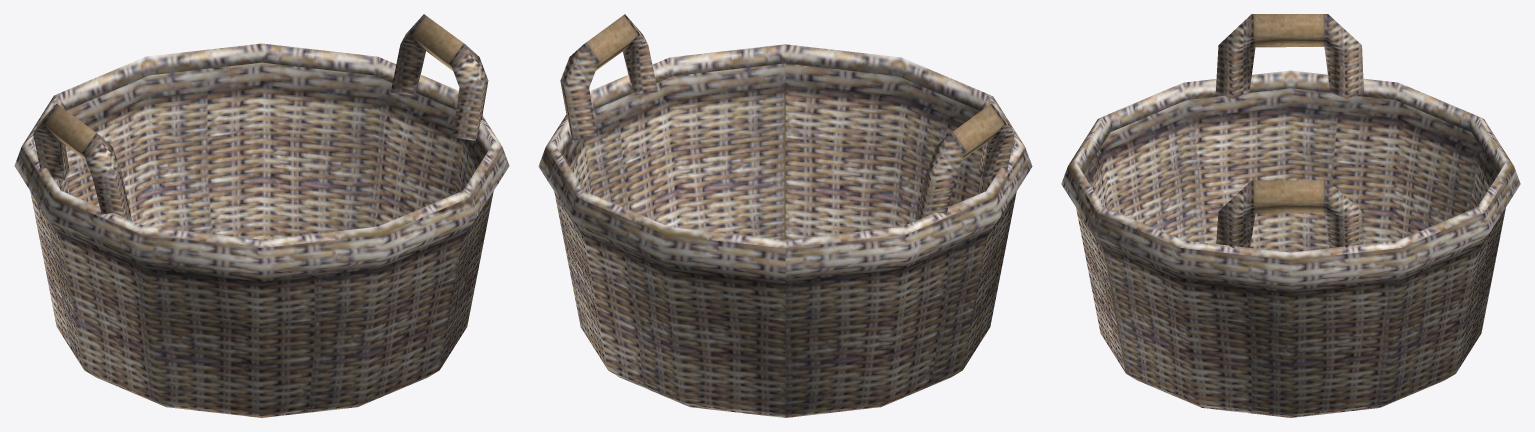
The model's file is basket01.FBX.
3 renders of one model, left to right at view 1: azimuth 30°, elevation 25°; view 2: azimuth 150°, elevation 25°; view 3: azimuth 270°, elevation 25°, orthographic. The views are drawn at different scales.
Parts seen in each view (by area): view 1: basket01; view 2: basket01; view 3: basket01.
Part boxes in pixels (box(x1,y1,x2,y2)): basket01: box(14, 14, 509, 417); basket01: box(538, 14, 1032, 417); basket01: box(1061, 14, 1520, 417).
Bounding box in the file's own units: 28.96 × 28.96 × 17.03.
